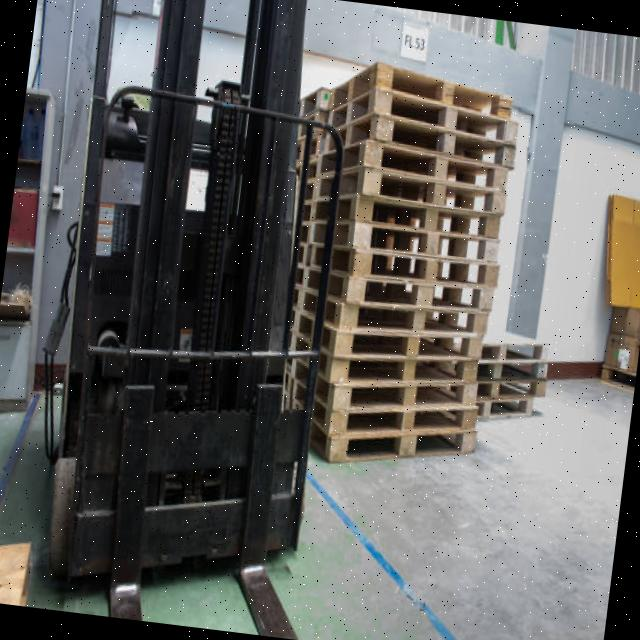Wooden-Pallets: (368, 49, 515, 126), (355, 135, 519, 198), (332, 289, 496, 342), (350, 220, 505, 271), (322, 424, 482, 465), (325, 375, 490, 414)
